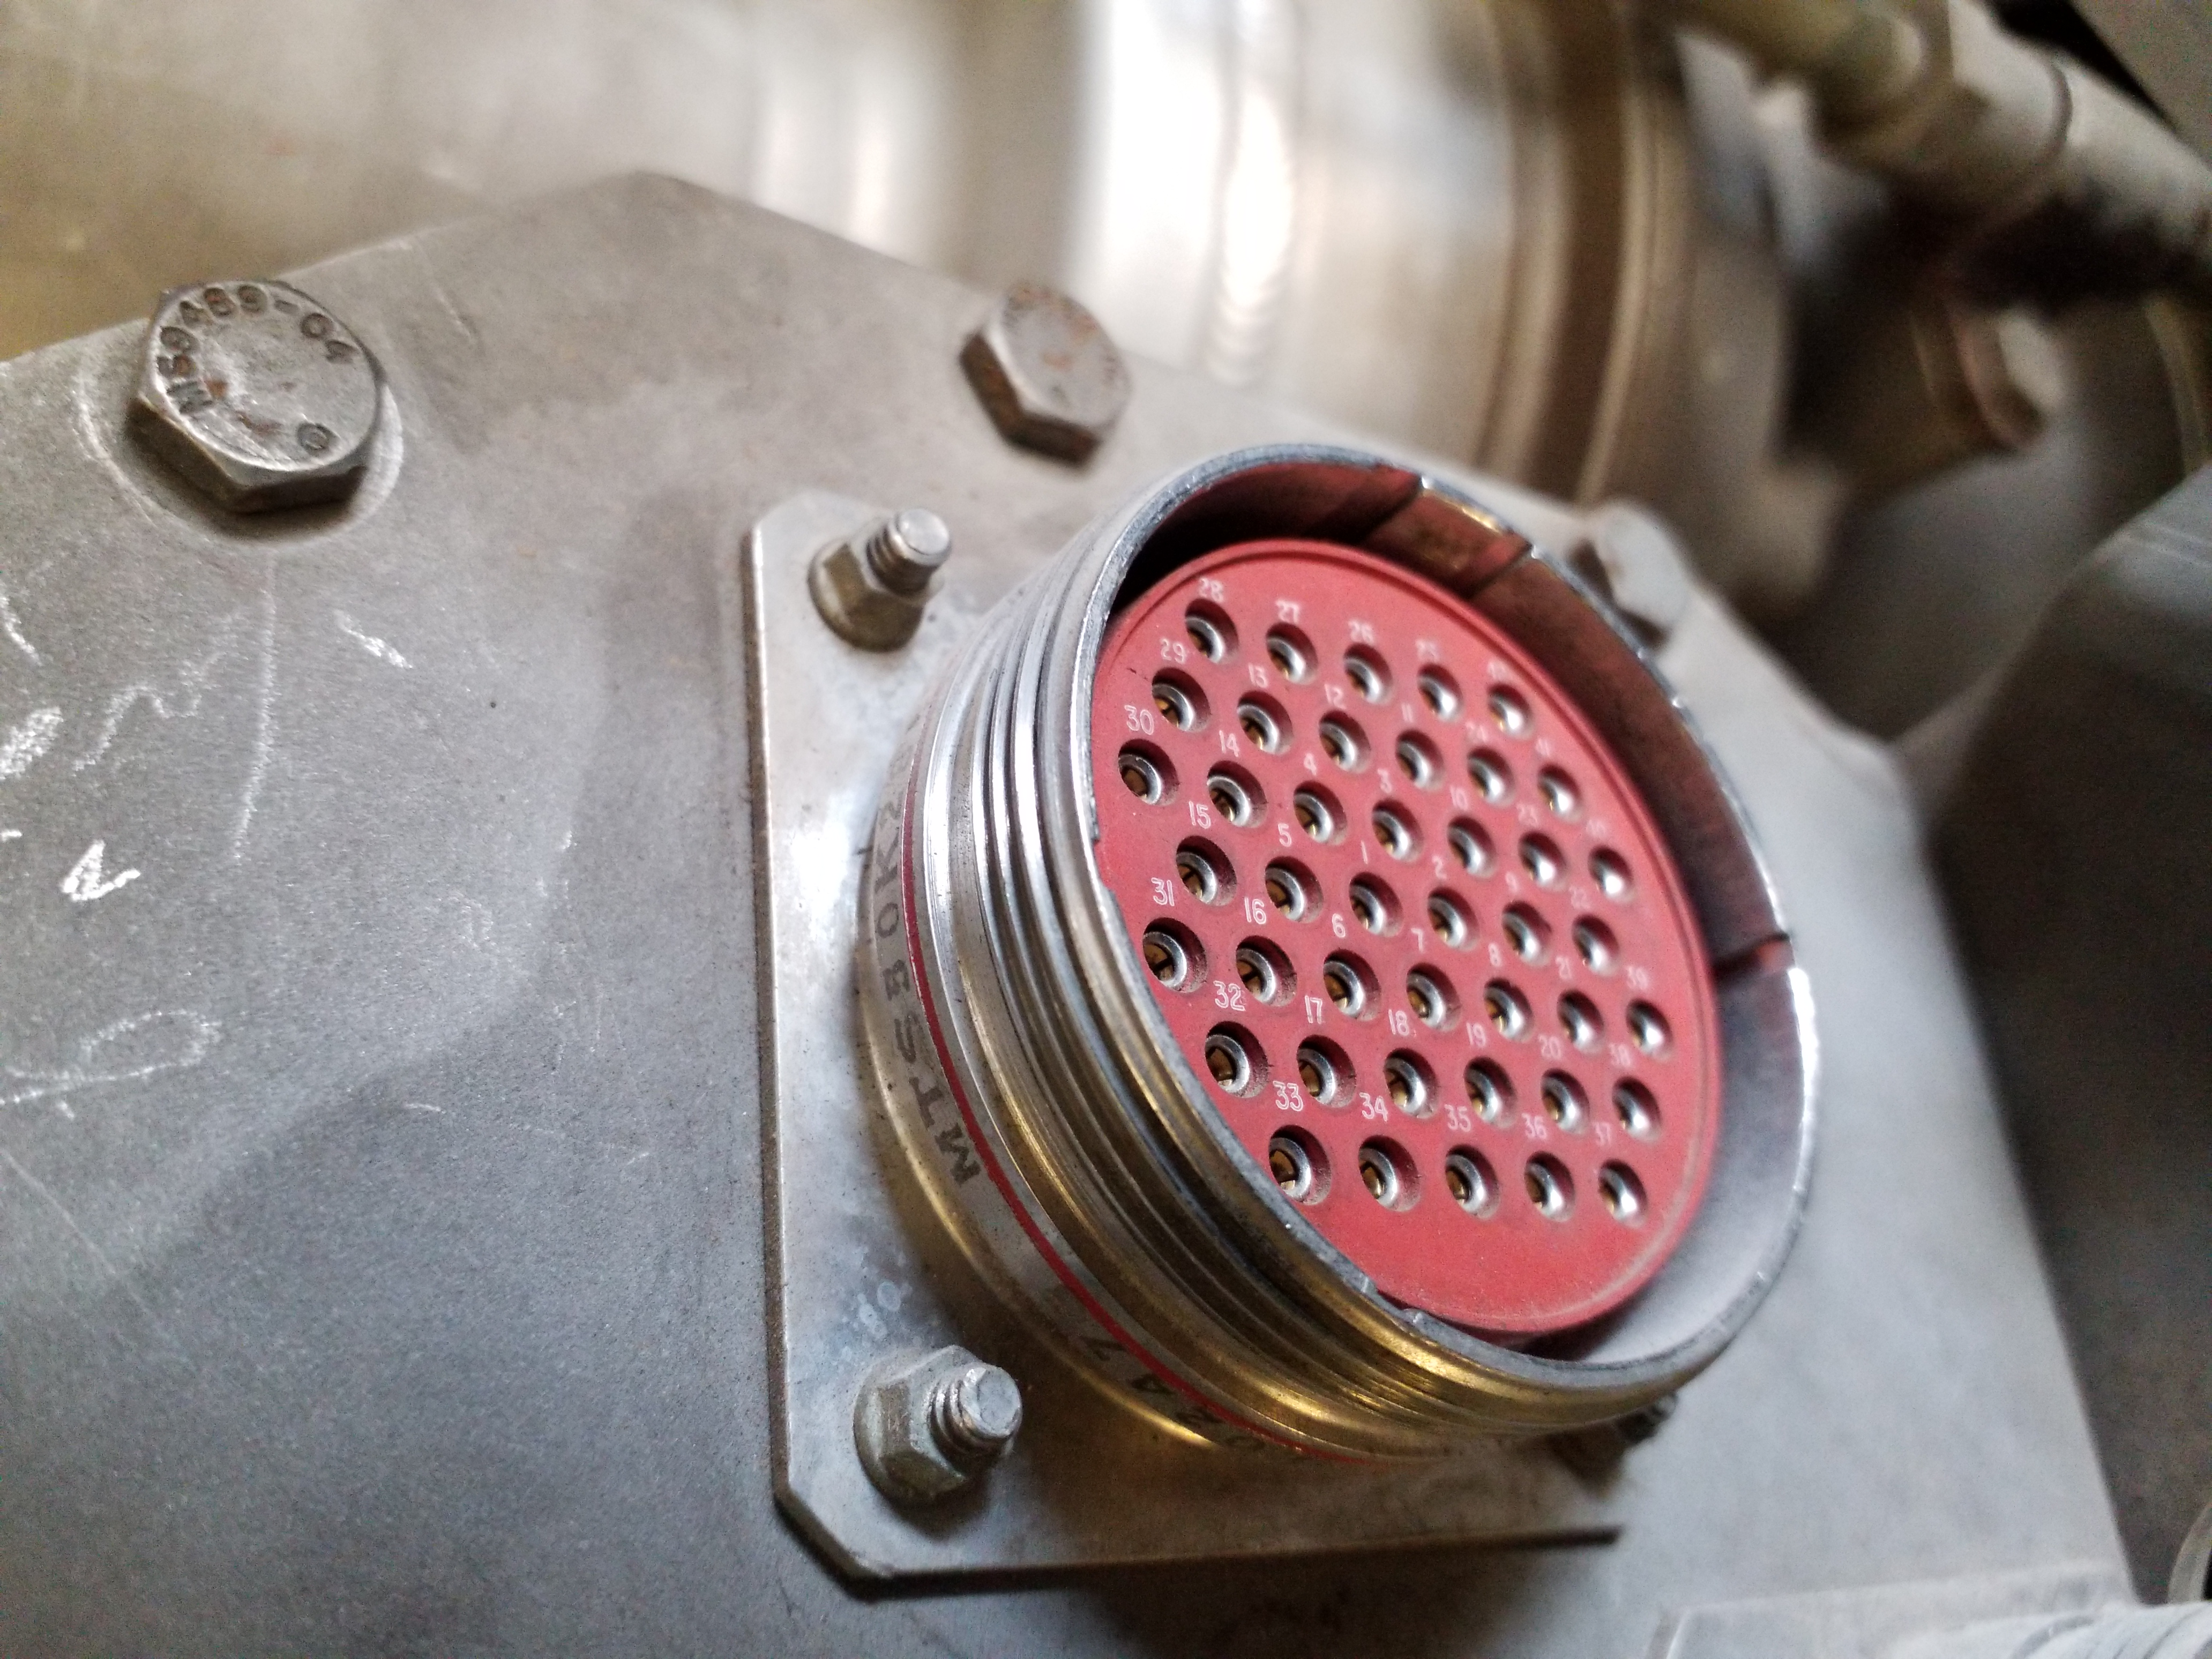inletnumbers: (988, 408, 1792, 1410)
